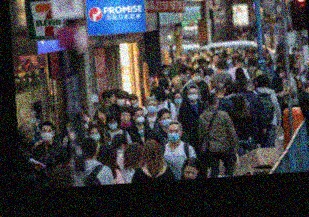mask_weared_incorrect: (128, 99, 138, 107)
with_mask: (167, 127, 181, 143), (40, 127, 53, 142), (160, 114, 173, 128), (89, 130, 102, 143), (146, 100, 157, 114), (134, 112, 146, 124), (187, 90, 199, 102), (107, 119, 119, 130), (115, 96, 126, 106), (173, 94, 183, 104), (178, 73, 187, 82), (193, 73, 201, 82), (278, 70, 287, 78), (225, 56, 233, 64), (162, 67, 169, 76), (66, 122, 72, 132), (243, 58, 250, 65)
without_mask: (183, 164, 198, 179), (121, 111, 132, 122), (27, 128, 34, 141), (108, 93, 116, 103)
